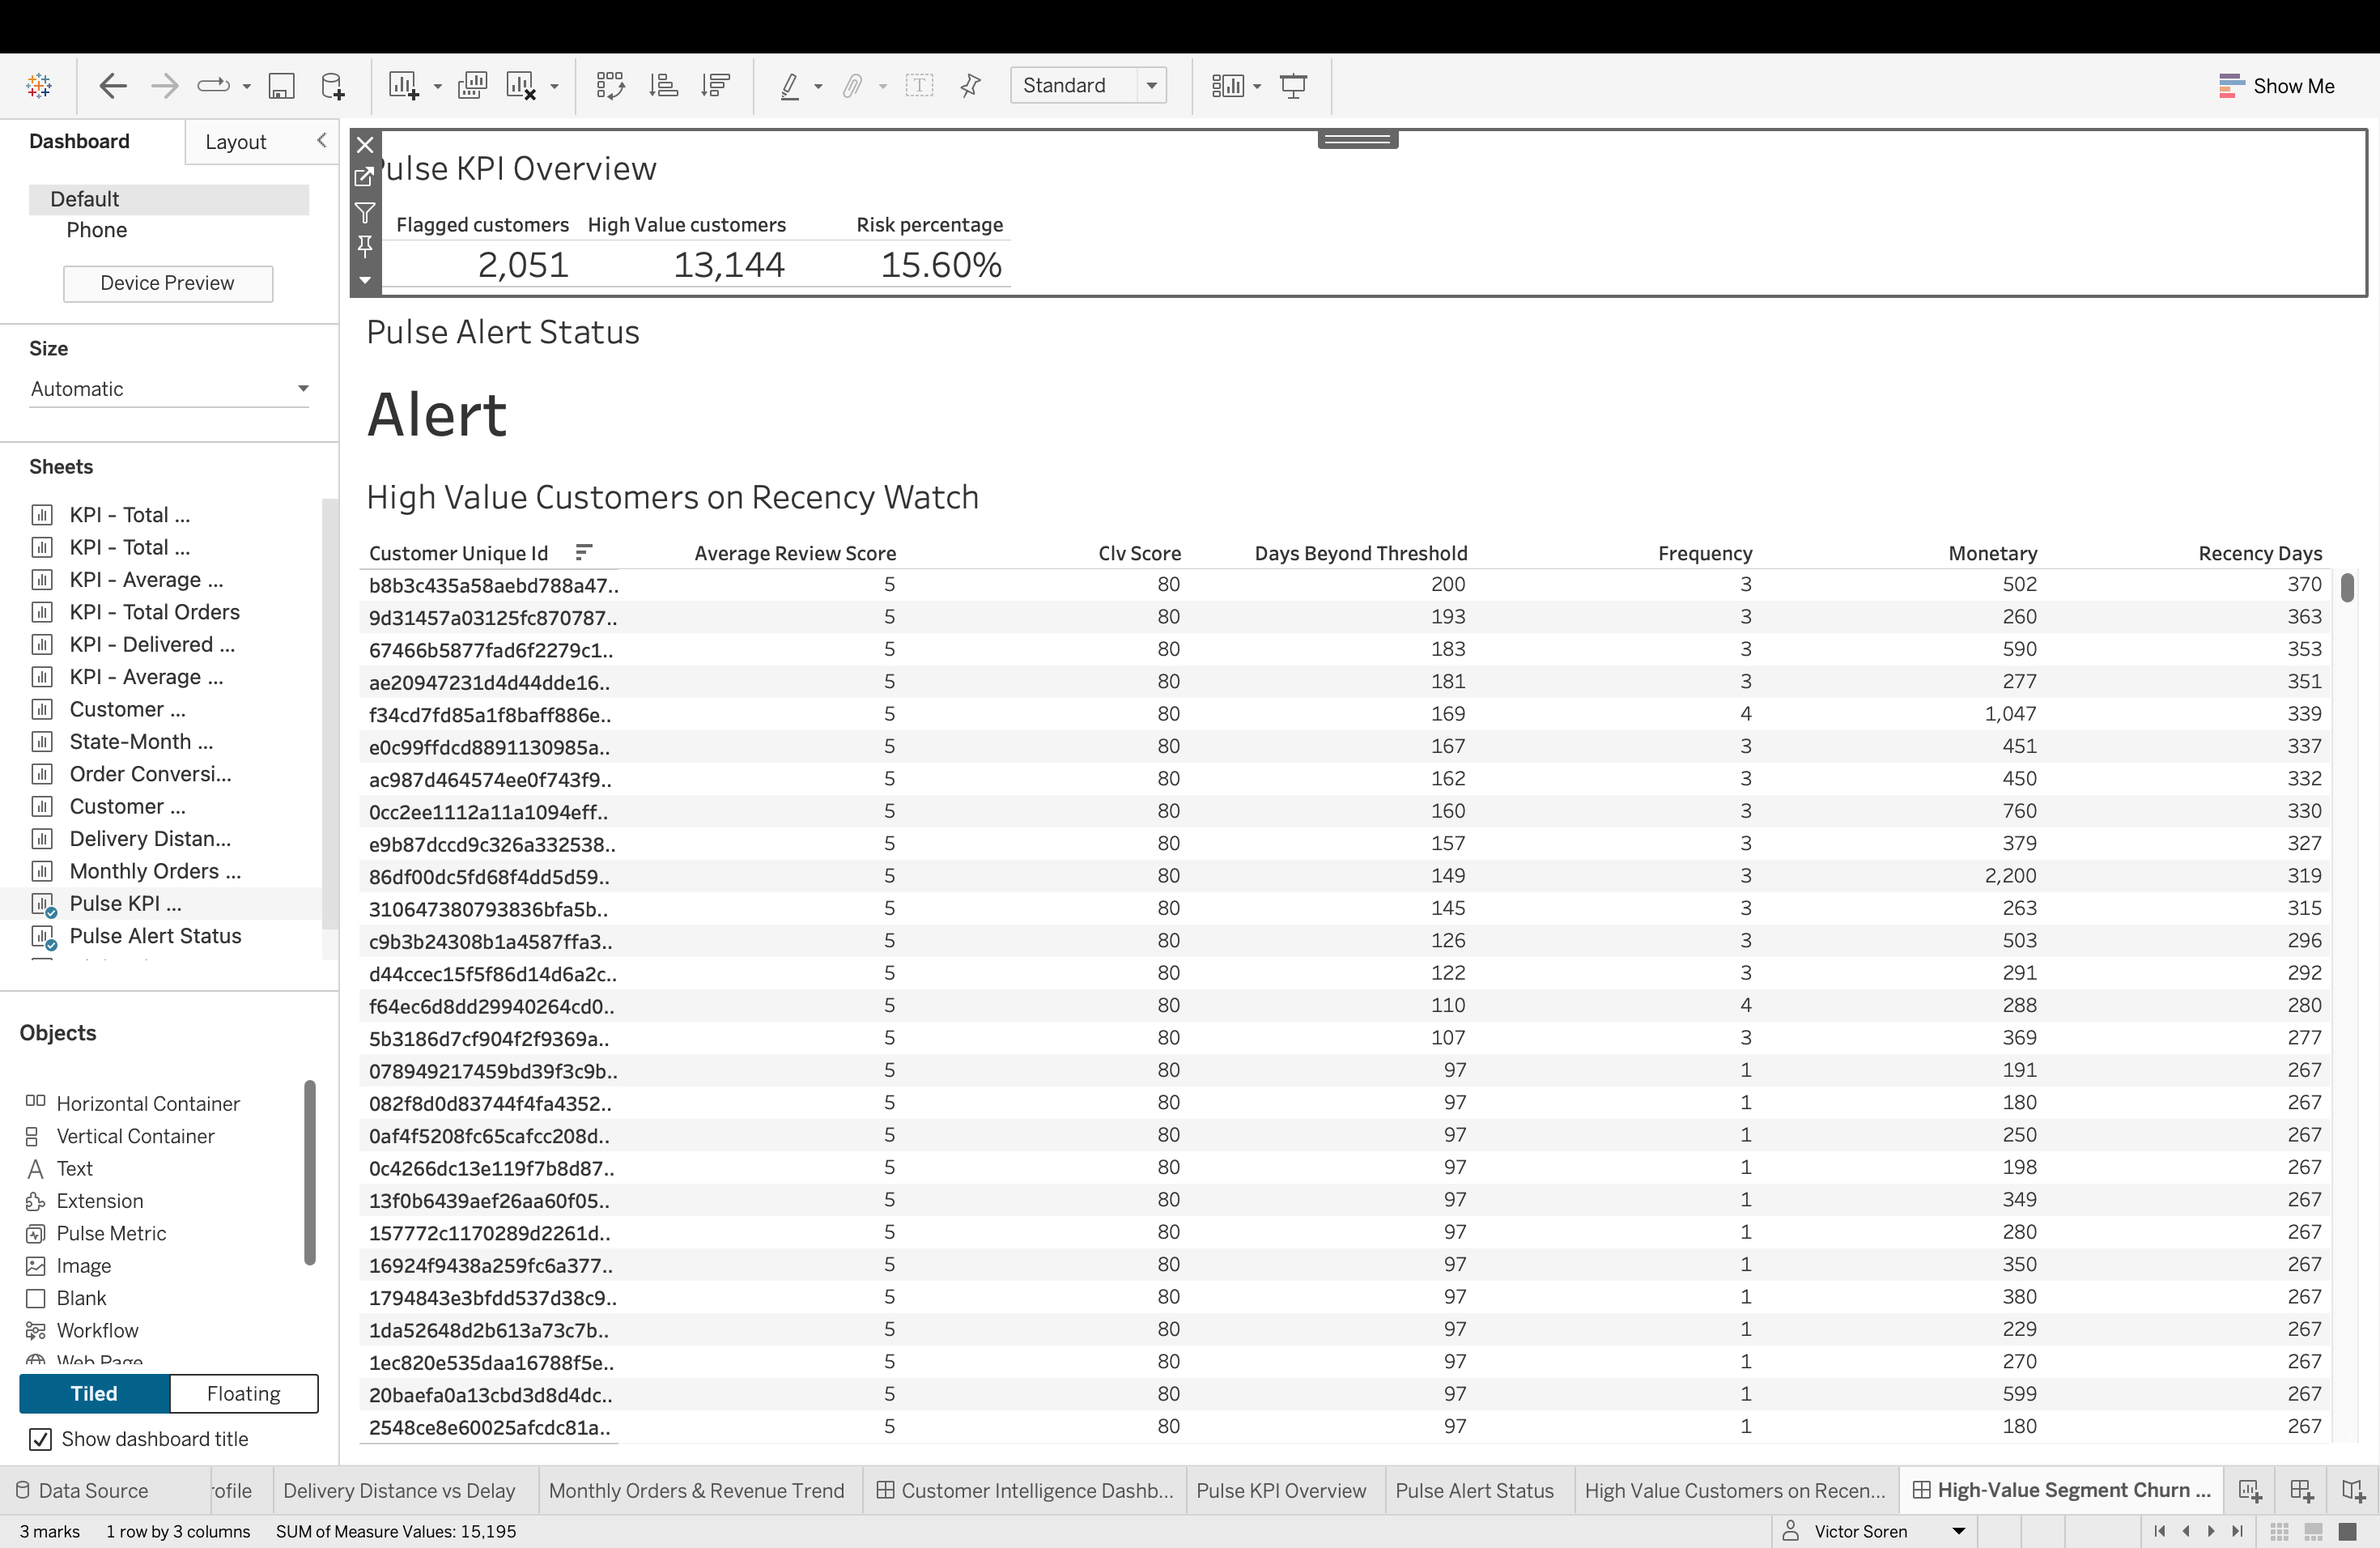

This screenshot's page, from the dashboard's own definition file:
{"tool":"tableau","page":{"name":"High-Value Segment Churn Risk Pulse","canvas":[1000,1000],"units":"permille","ordinal":1},"visuals":[{"type":"worksheet","title":"Pulse KPI Overview","mark":"Automatic","box":[6.4,9.6,987.3,121.5]},{"type":"worksheet","title":"Pulse Alert Status","mark":"Text","box":[6.4,131.2,987.3,122.8]},{"type":"worksheet","title":"High Value Customers on Recency Watch","mark":"Automatic","rows":["customer_unique_id"],"box":[6.4,253.9,987.3,736.5]}]}

Visuals, with their boxes on the dashboard's canvas, which has no fixed pixel size, in thousandths of its width and height (x1, y1, x2, y2). These are canvas units, not pixel positions in the 2380x1548 screenshot, which may show the page scaled, cropped or inside an application window:
"Pulse KPI Overview" worksheet: <box>6,10,994,131</box>
"Pulse Alert Status" worksheet (Text marks): <box>6,131,994,254</box>
"High Value Customers on Recency Watch" worksheet: <box>6,254,994,990</box>
